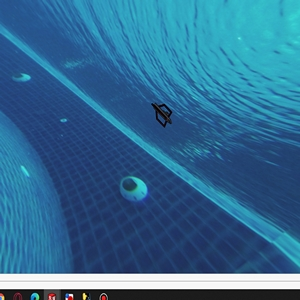submarine: (153, 99, 170, 127)
